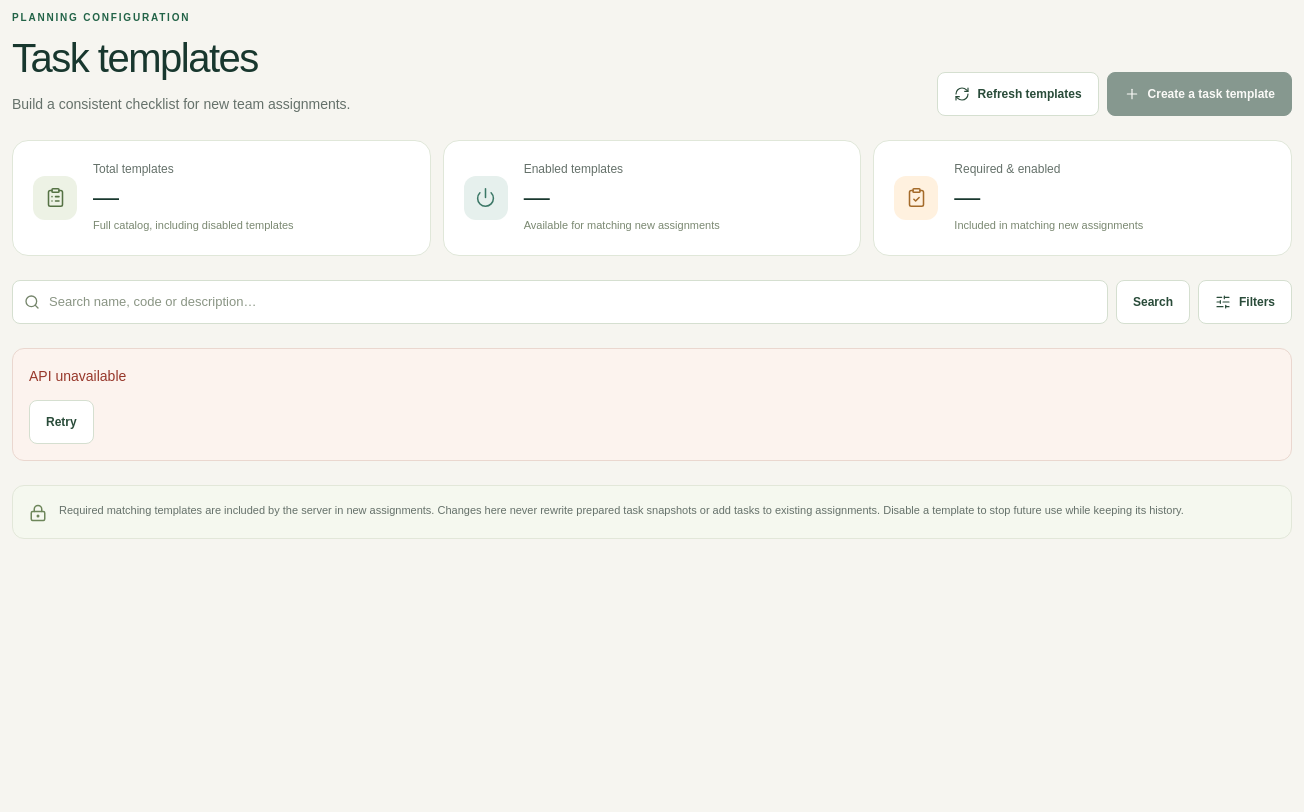
task template management › supports loading, errors, retry and an empty template catalog
The width and height of the screenshot is (1304, 812).
Expected: the text "API unavailable" is shown, [29, 365, 126, 388]
Click the button "Retry".
click(61, 422)  # box [29, 400, 94, 444]
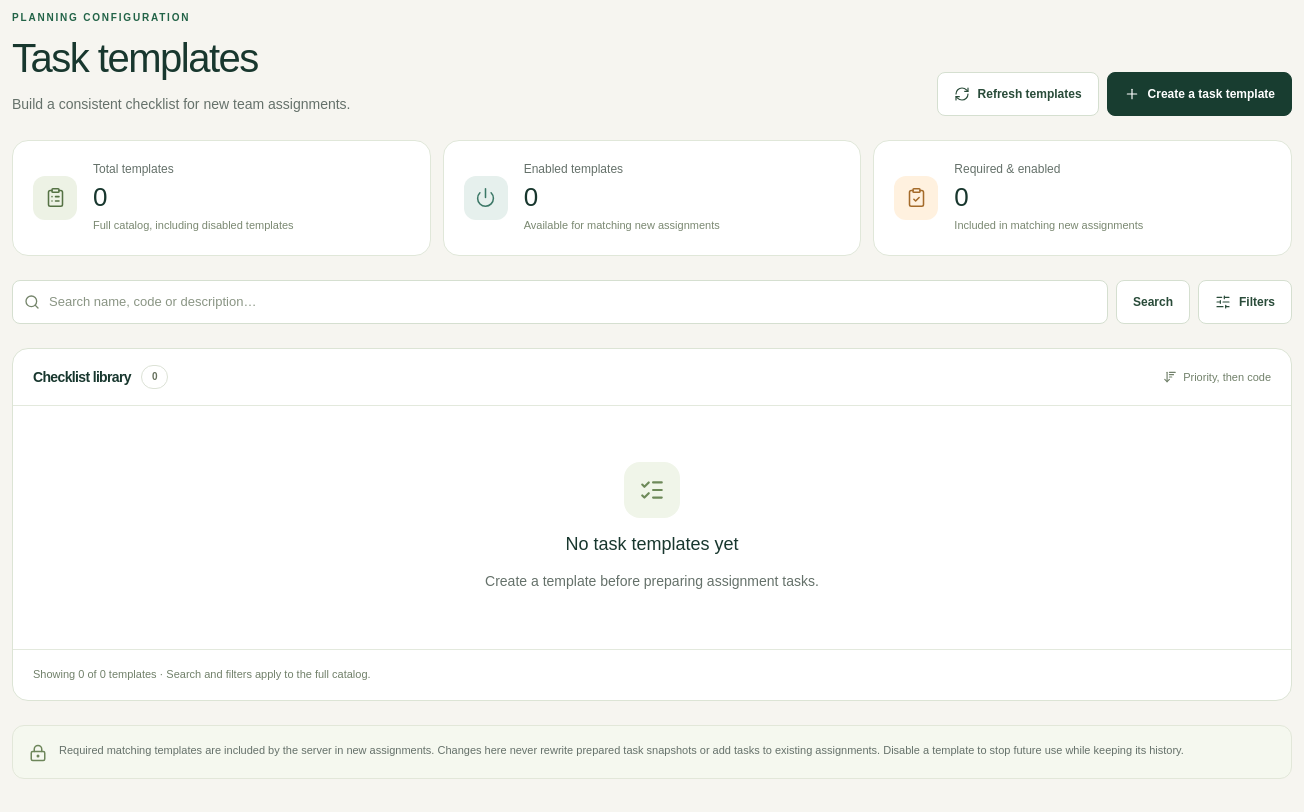
Expected: the heading "No task templates yet" is shown, [566, 530, 739, 558]
